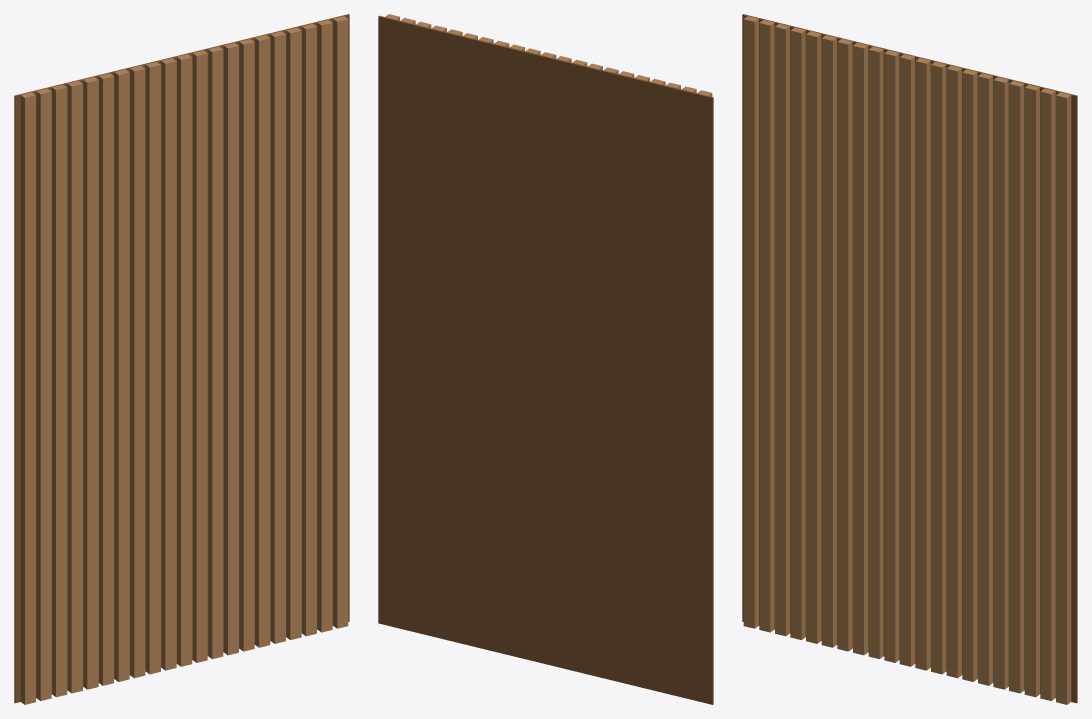
The model's file is painel_ripado_150x260.obj.
3 views of the same model, side by side, from view 1: azimuth 30°, elevation 25°; view 2: azimuth 150°, elevation 25°; view 3: azimuth 330°, elevation 25° (orthographic).
Visible parts, largest first — view 1: painel_ripado_150x260; view 2: painel_ripado_150x260; view 3: painel_ripado_150x260.
Boxes of the visible parts, x1,y1,x2,y2 form: painel_ripado_150x260: [14, 14, 349, 704]; painel_ripado_150x260: [378, 14, 713, 704]; painel_ripado_150x260: [742, 14, 1077, 704].
Bounding box in the file's own units: 150 × 260 × 4.
